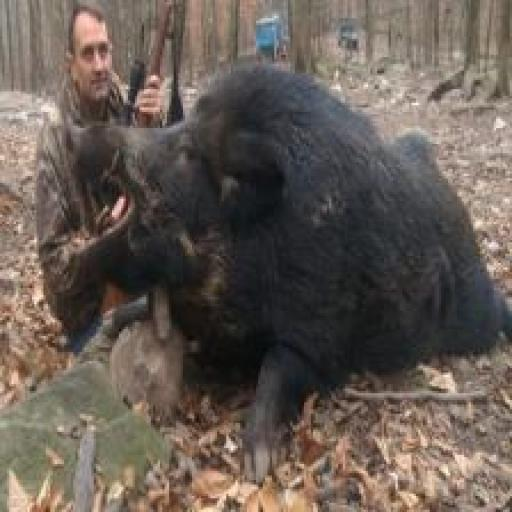Pig: (64, 62, 512, 483)
